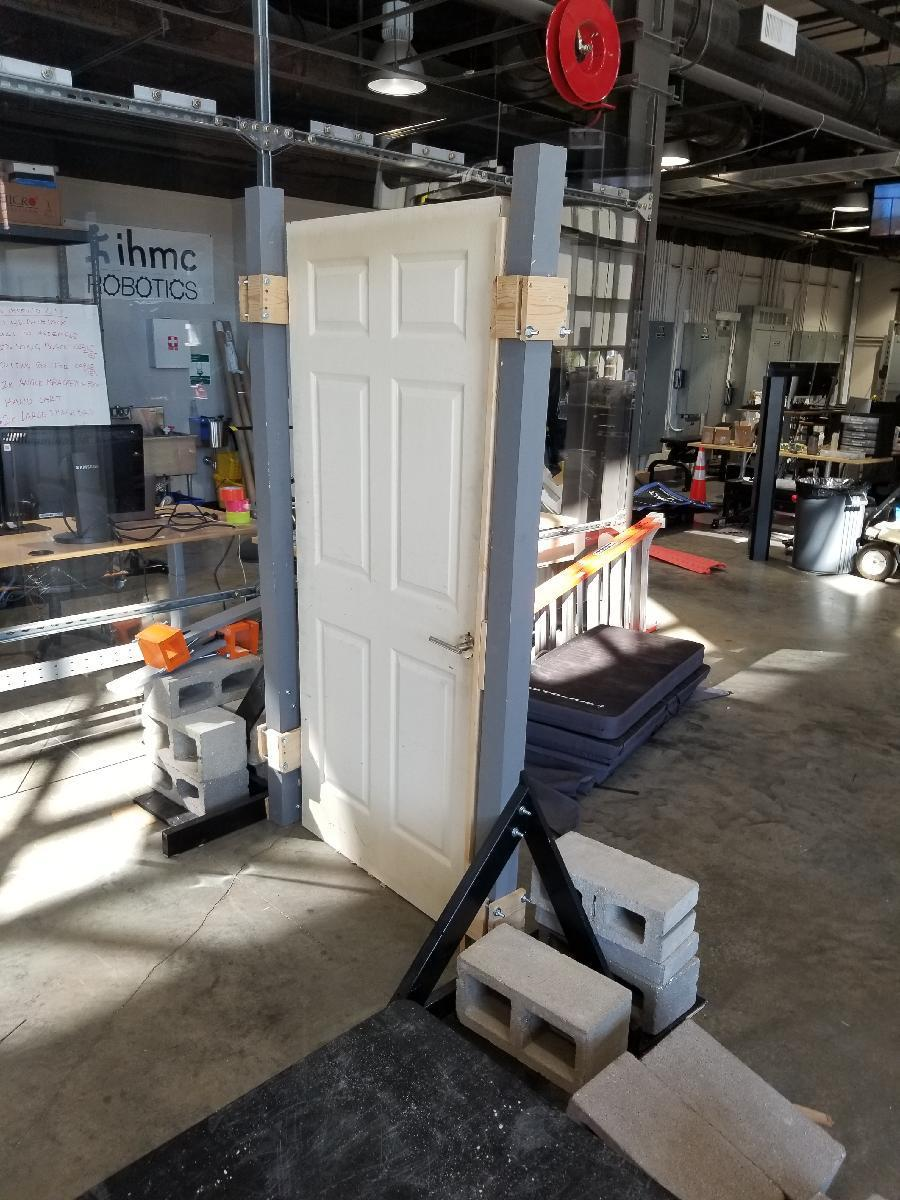door: (276, 213, 500, 931)
handle: (425, 623, 480, 669)
